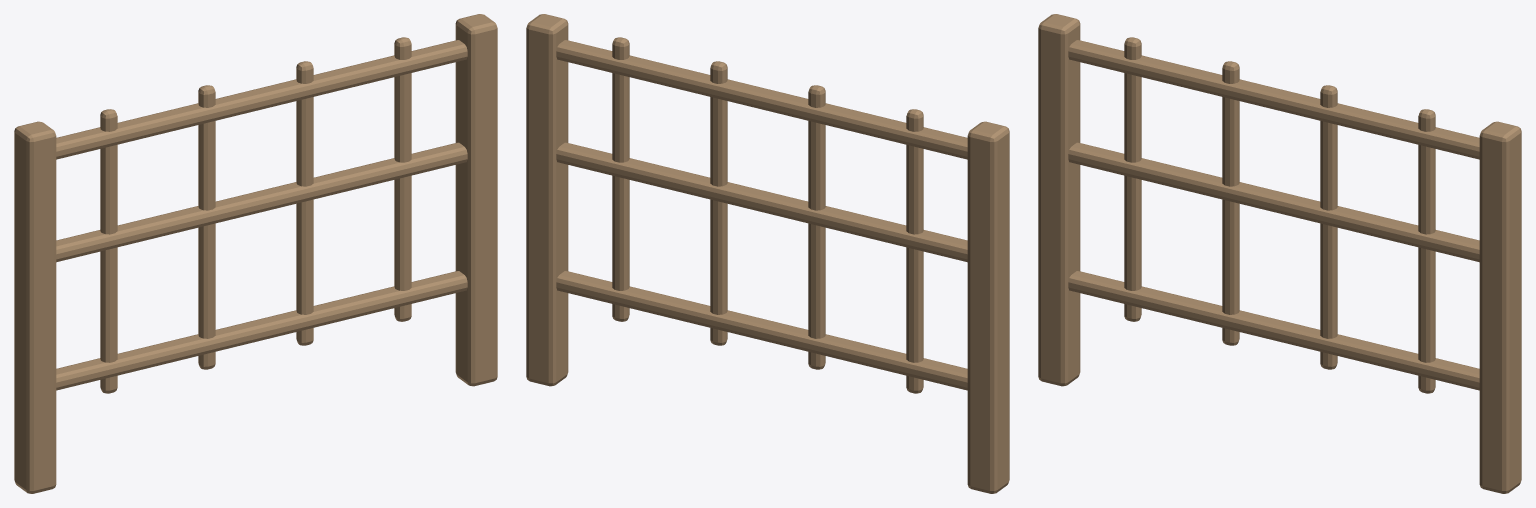
File: fence_segment.glb
The picture shows the model from 3 angles, left to right: view 1: azimuth 30°, elevation 25°; view 2: azimuth 150°, elevation 25°; view 3: azimuth 330°, elevation 25°; orthographic projection.
Visible parts, largest first — view 1: FenceSegment; view 2: FenceSegment; view 3: FenceSegment.
Boxes of the visible parts, left/top/right/bottom form: FenceSegment: left=14, top=14, right=497, bottom=493; FenceSegment: left=526, top=14, right=1009, bottom=493; FenceSegment: left=1038, top=14, right=1521, bottom=493.
Size of the model in its own units: 1.92 by 1.4 by 0.12.
